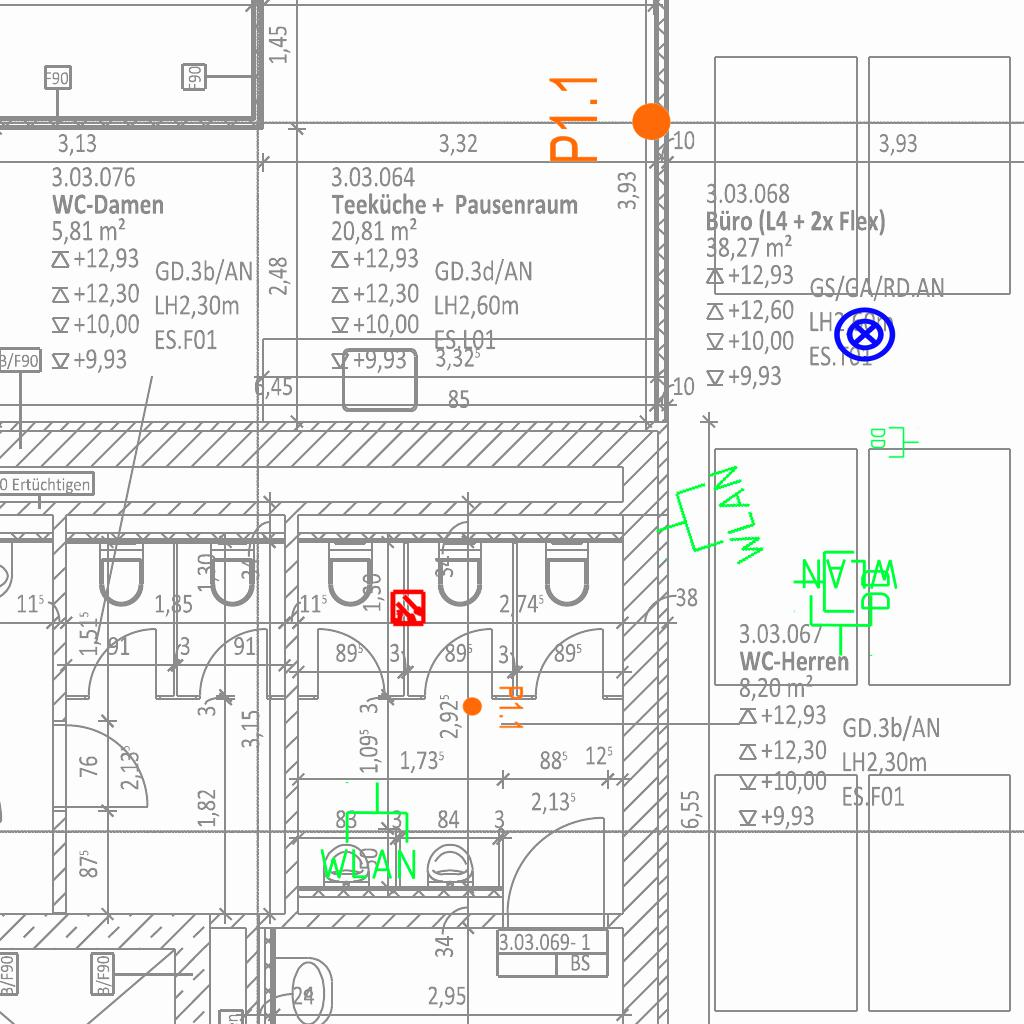Datenanschluss_zweifach: (791, 548, 894, 617), (869, 425, 920, 459)
Downlight_LED_Einbauleuchten_Flur: (546, 72, 674, 165), (461, 685, 525, 731)
OT_Multisensormelder_(Kombination_RMO_WMD): (380, 581, 436, 637)
Taster_beleuchtet: (832, 301, 898, 367)
WLAN: (640, 459, 772, 592), (315, 779, 420, 883), (798, 555, 903, 659)
